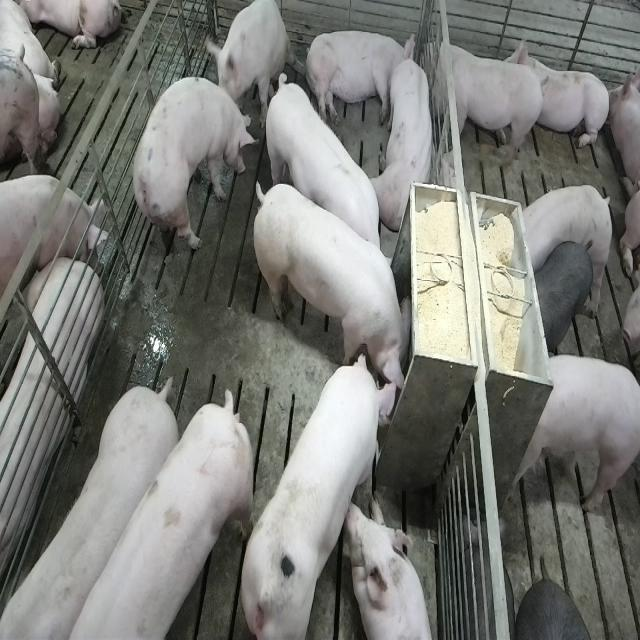Feeding: (235, 349, 401, 635), (256, 175, 419, 408)
Lateral_lying: (0, 255, 101, 615), (304, 28, 416, 128)
Sitting: (206, 1, 293, 121)
Standing: (49, 385, 253, 640), (0, 379, 175, 640), (262, 72, 394, 288), (130, 75, 253, 268), (506, 352, 638, 516), (422, 34, 548, 176), (0, 174, 107, 307), (513, 183, 613, 280), (532, 237, 596, 354)
Sternal_lying: (511, 32, 612, 156), (349, 497, 436, 640), (375, 51, 438, 232)
